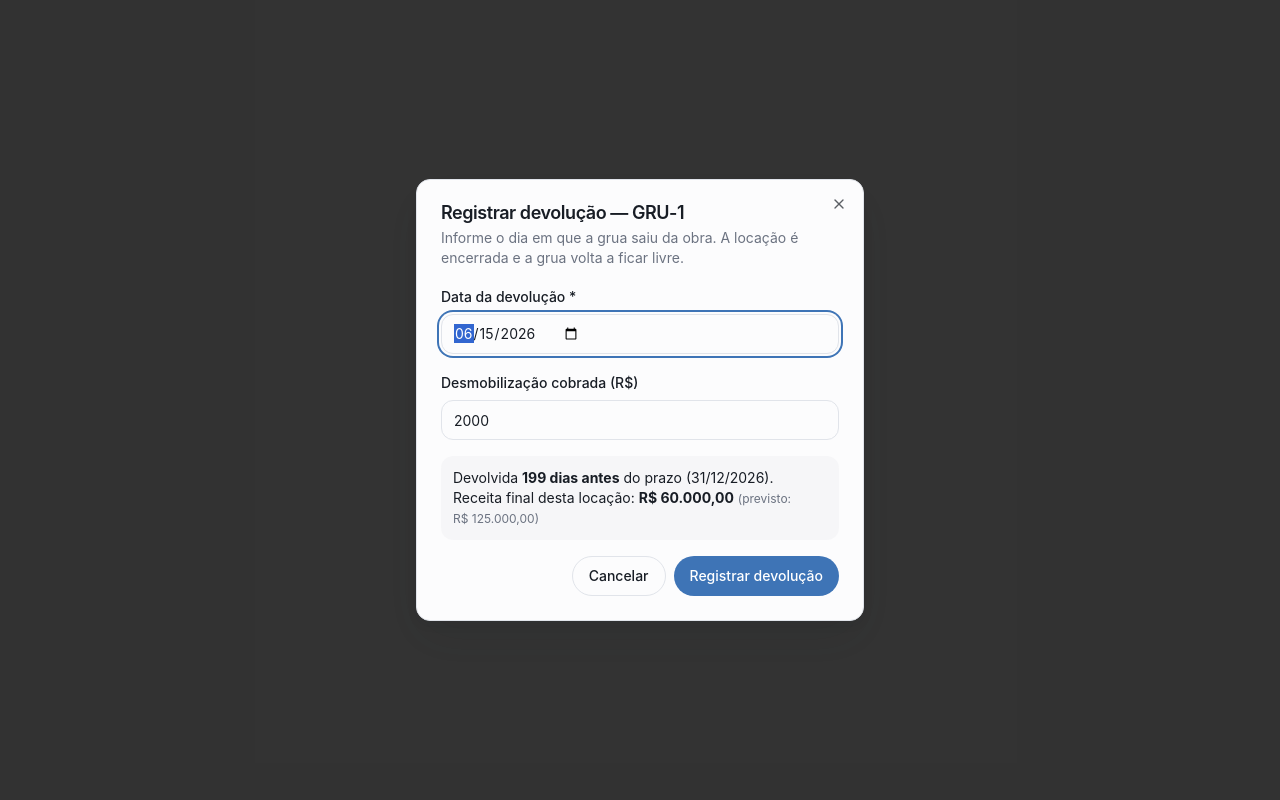
Test case: registrar devolução › desmobilização ilegível bloqueia
Replace the text in the field labelled "Desmobilização cobrada (R$)" with "abc": (640,420) [441, 400, 839, 440]
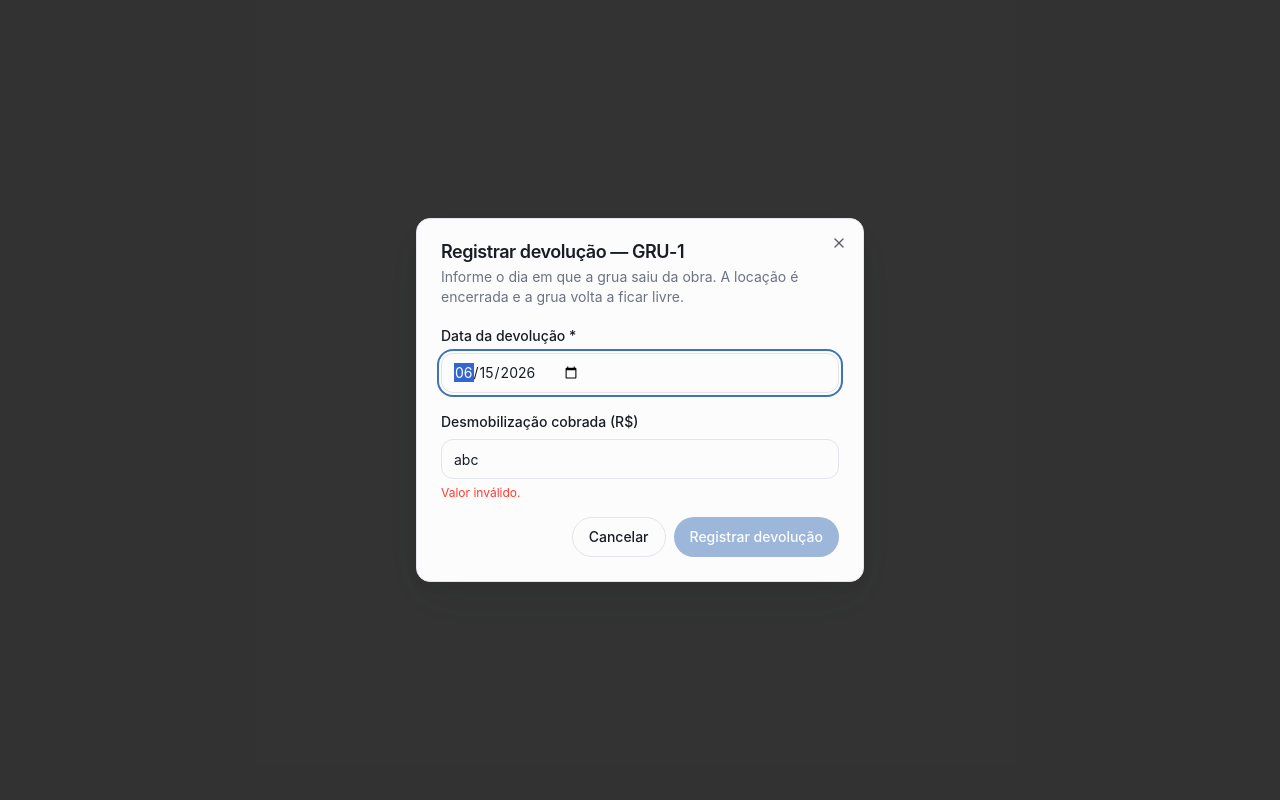
expect the text "Valor inválido." is shown: met, box [441, 485, 520, 500]
expect the button "Registrar devolução" is disabled: met, box [674, 517, 839, 557]
